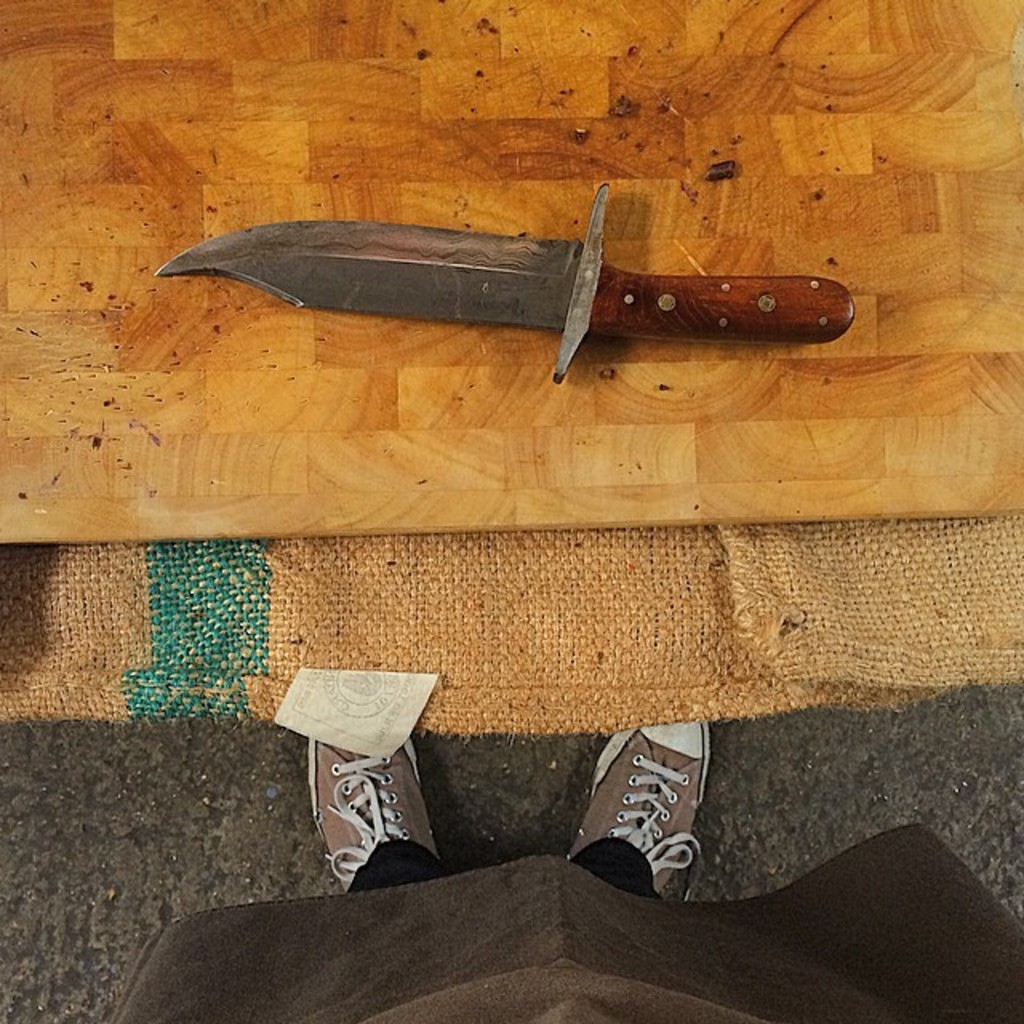knife: (152, 183, 854, 384)
